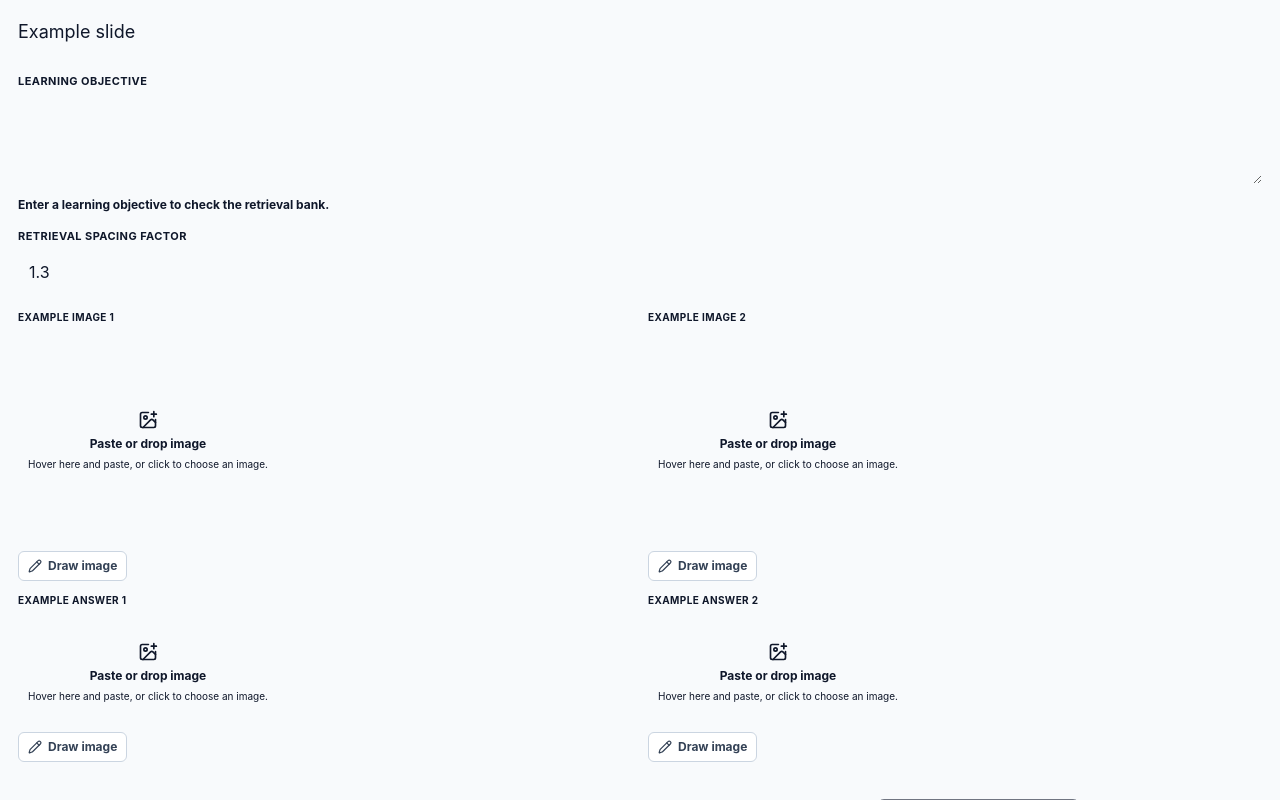
ExampleComposer › shows an automatic debounced database match without a separate check button
This screenshot has width=1280, height=800.
In the text box labelled "Learning objective": (640, 140) [18,96,1262,184], type "101A"
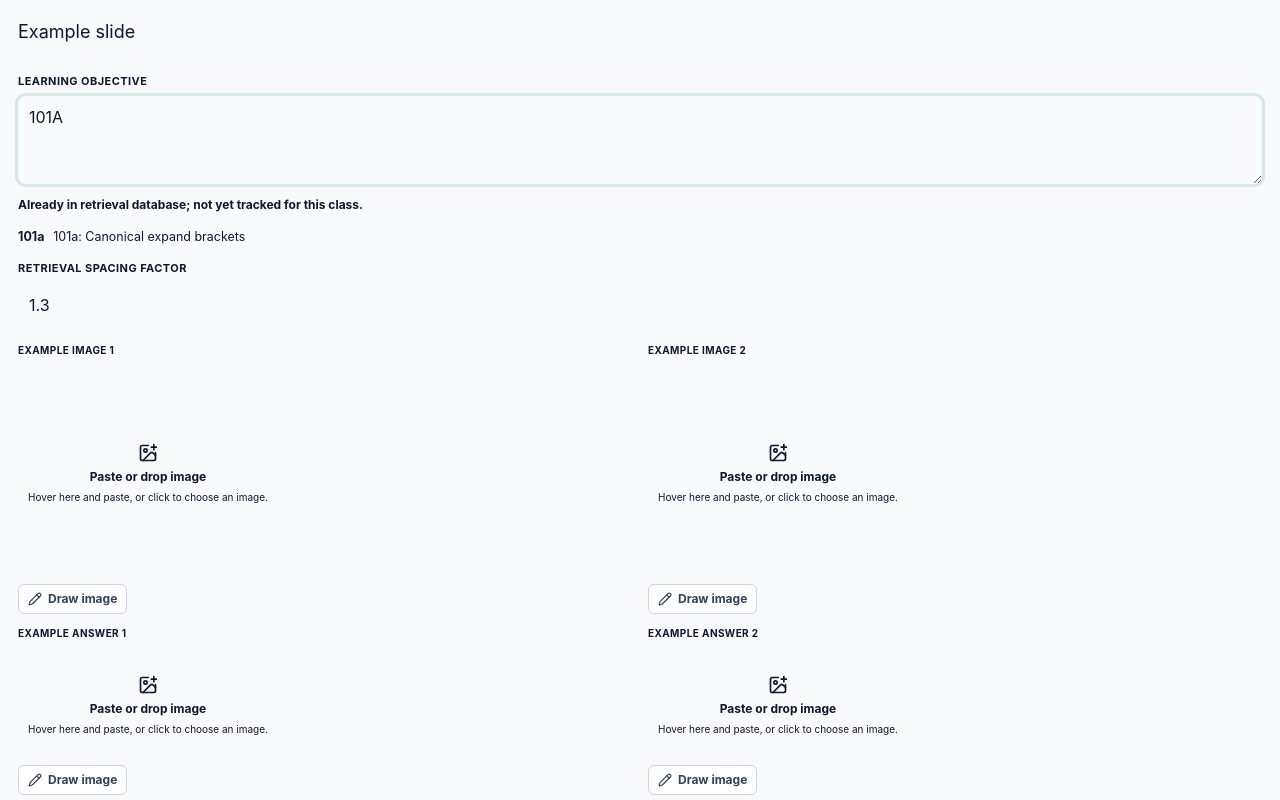
Expected: the text "Already in retrieval database; not yet tracked for this class." is shown, [18,197,363,212]
Expected: the text "Enter a learning objective to check the retrieval bank." is gone
